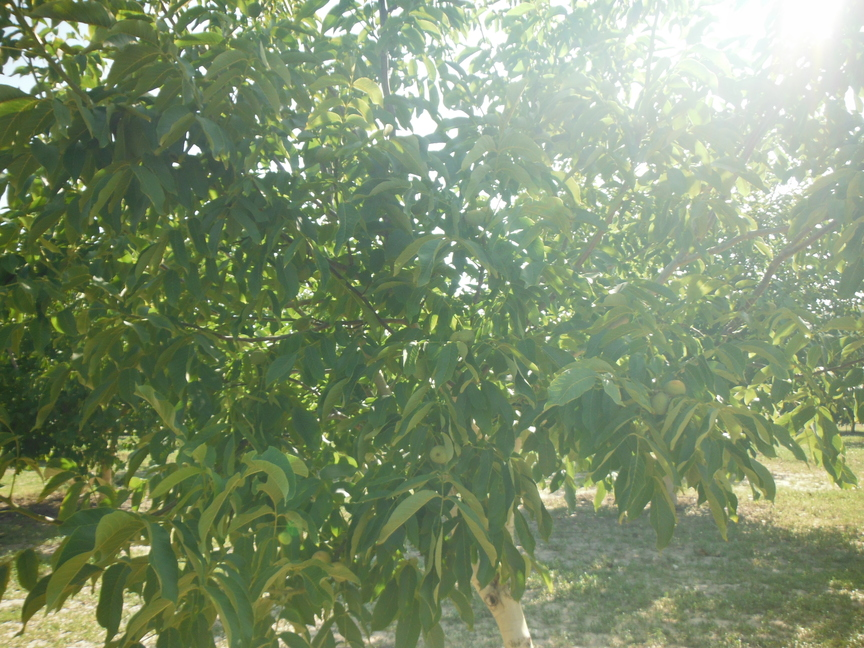walnut: (425, 440, 453, 469), (661, 373, 687, 400), (647, 389, 674, 414), (461, 204, 488, 227), (314, 140, 337, 165), (309, 547, 335, 569), (288, 314, 316, 334), (244, 347, 272, 367), (446, 326, 466, 351), (458, 325, 479, 347), (294, 259, 311, 283), (193, 311, 208, 328)
